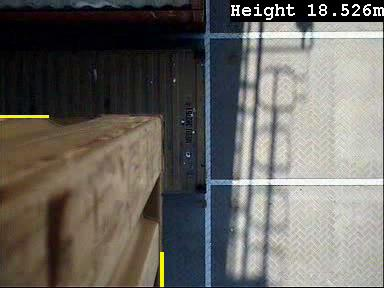groundmarker_2: (197, 46, 235, 112), (200, 222, 237, 288)
